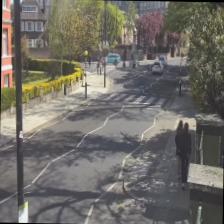person: (178, 122, 191, 188), (174, 119, 184, 178)
